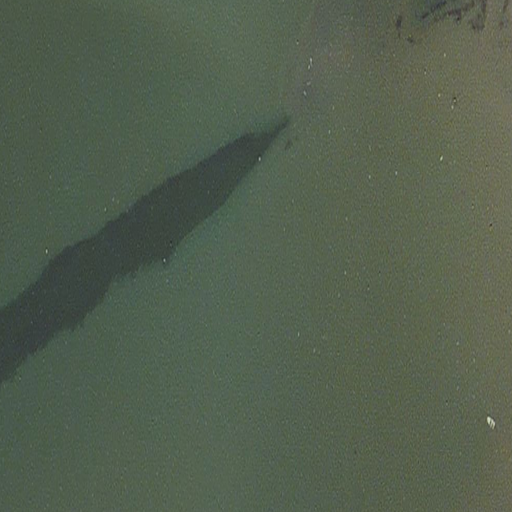ship: (484, 415, 496, 430)
